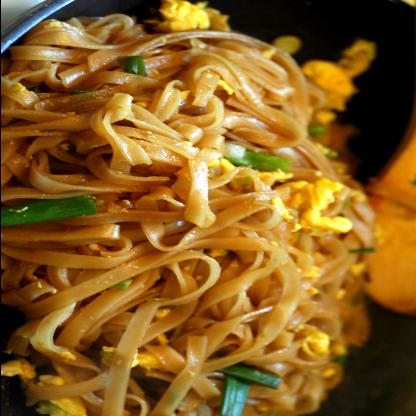Pad Thai: (0, 12, 387, 416)
